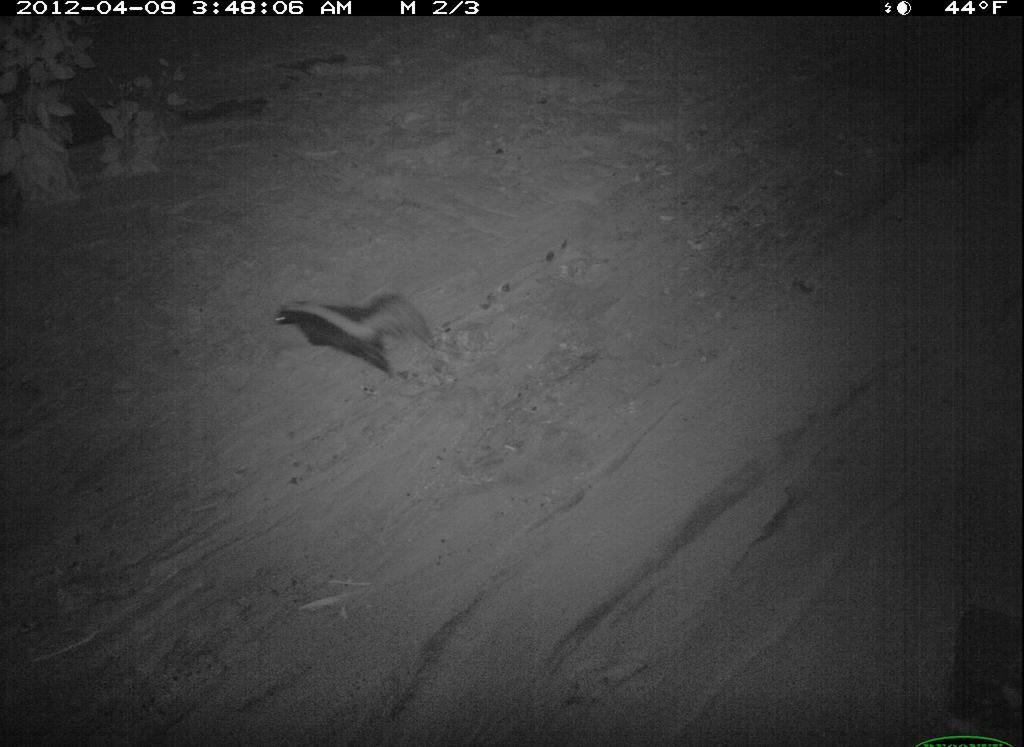skunk: (539, 570, 876, 747)
